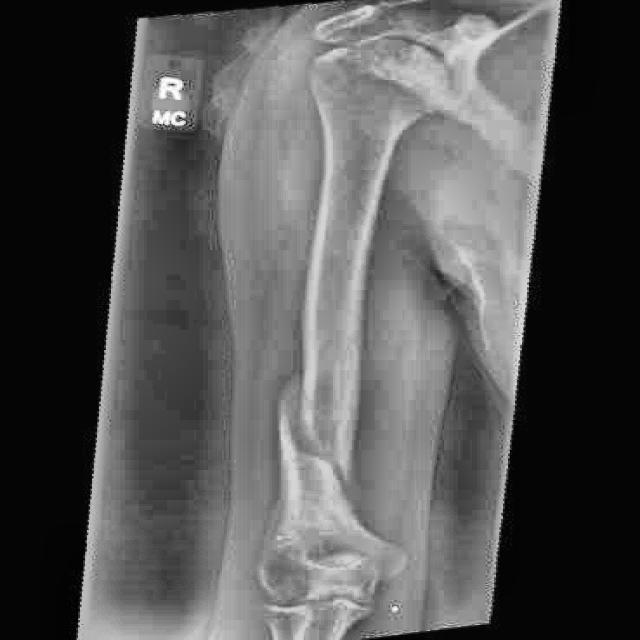humerus: (258, 369, 418, 516)
